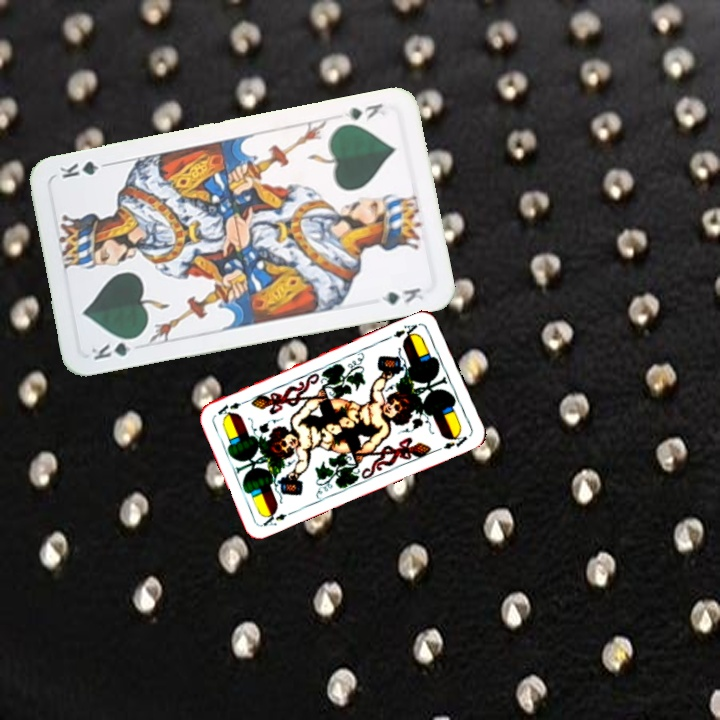EA: (259, 506, 298, 529), (389, 319, 423, 343)
GK: (87, 333, 143, 363), (340, 99, 385, 123)
